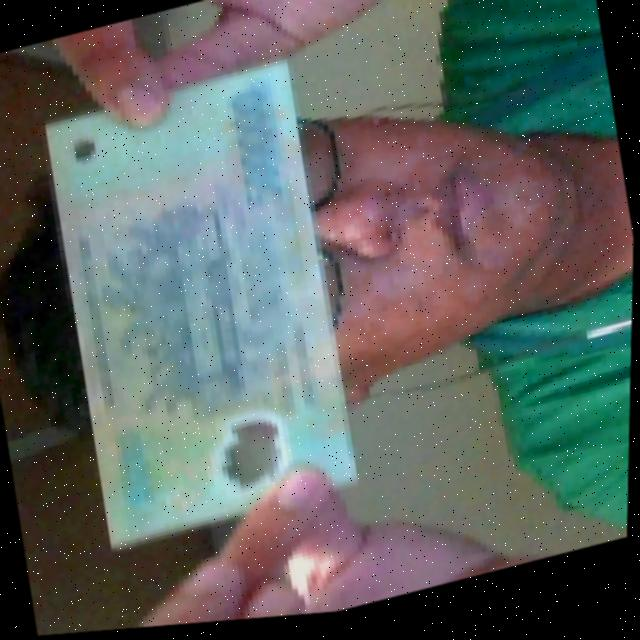500 000 VND: (21, 47, 375, 570)
